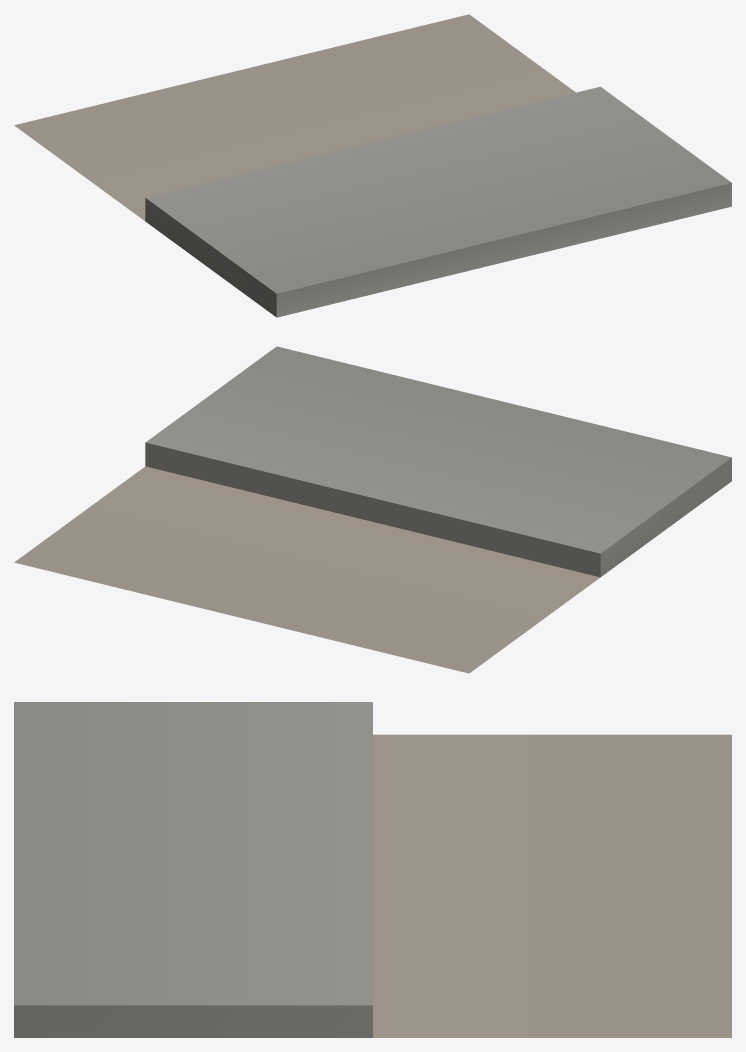
The model's file is road-dirt-side.glb.
3 views of the same model, one above another, from view 1: azimuth 30°, elevation 25°; view 2: azimuth 150°, elevation 25°; view 3: azimuth 270°, elevation 25° (orthographic). The views are drawn at different scales.
Visible parts, largest first — view 1: road-dirt-side; view 2: road-dirt-side; view 3: road-dirt-side.
Part boxes in pixels (x1,y1,x2,y2): road-dirt-side: (14,14,731,317); road-dirt-side: (14,346,731,673); road-dirt-side: (14,702,731,1037).
Size of the model in its own units: 1 by 0.05 by 1.
